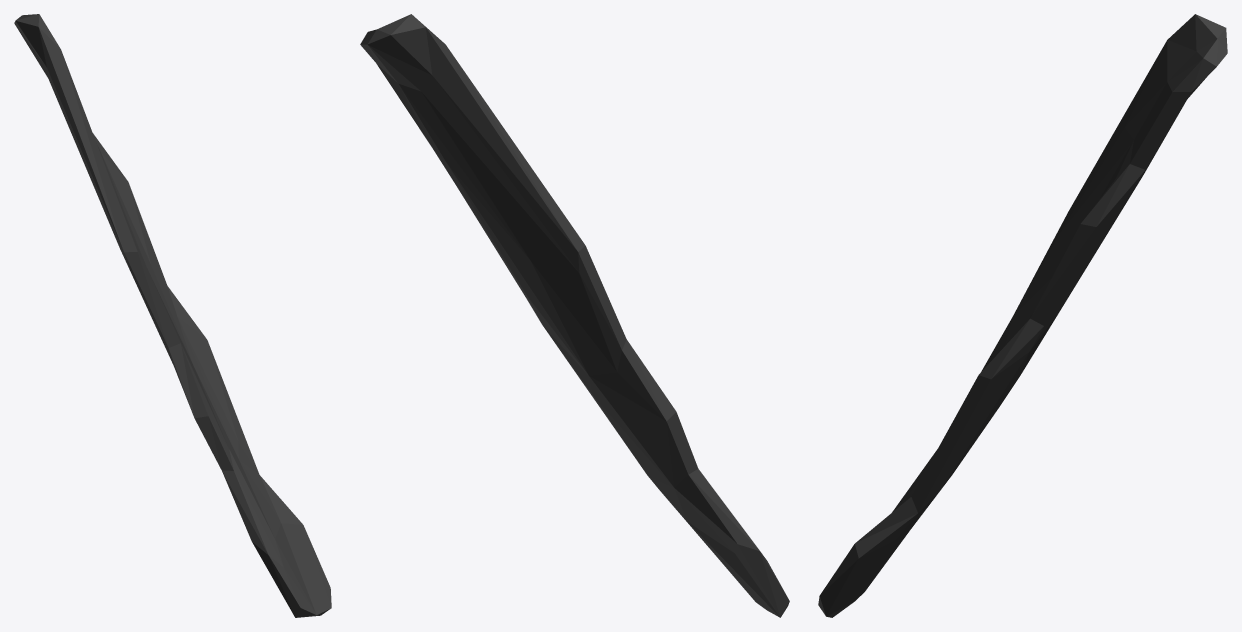
The model's file is Femur_medial_lip.glb.
3 renders of one model, left to right at view 1: azimuth 90°, elevation 25°; view 2: azimuth 150°, elevation 25°; view 3: azimuth 270°, elevation 25°, orthographic. The views are drawn at different scales.
Visible parts, largest first — view 1: Femur_medial_lip; view 2: Femur_medial_lip; view 3: Femur_medial_lip.
Boxes of the visible parts, left/top/right/bottom form: Femur_medial_lip: left=14, top=14, right=331, bottom=617; Femur_medial_lip: left=360, top=14, right=789, bottom=617; Femur_medial_lip: left=818, top=14, right=1227, bottom=617.
Bounding box in the file's own units: 0.0165 × 0.0429 × 0.0231.
1 material, 1 textured.
